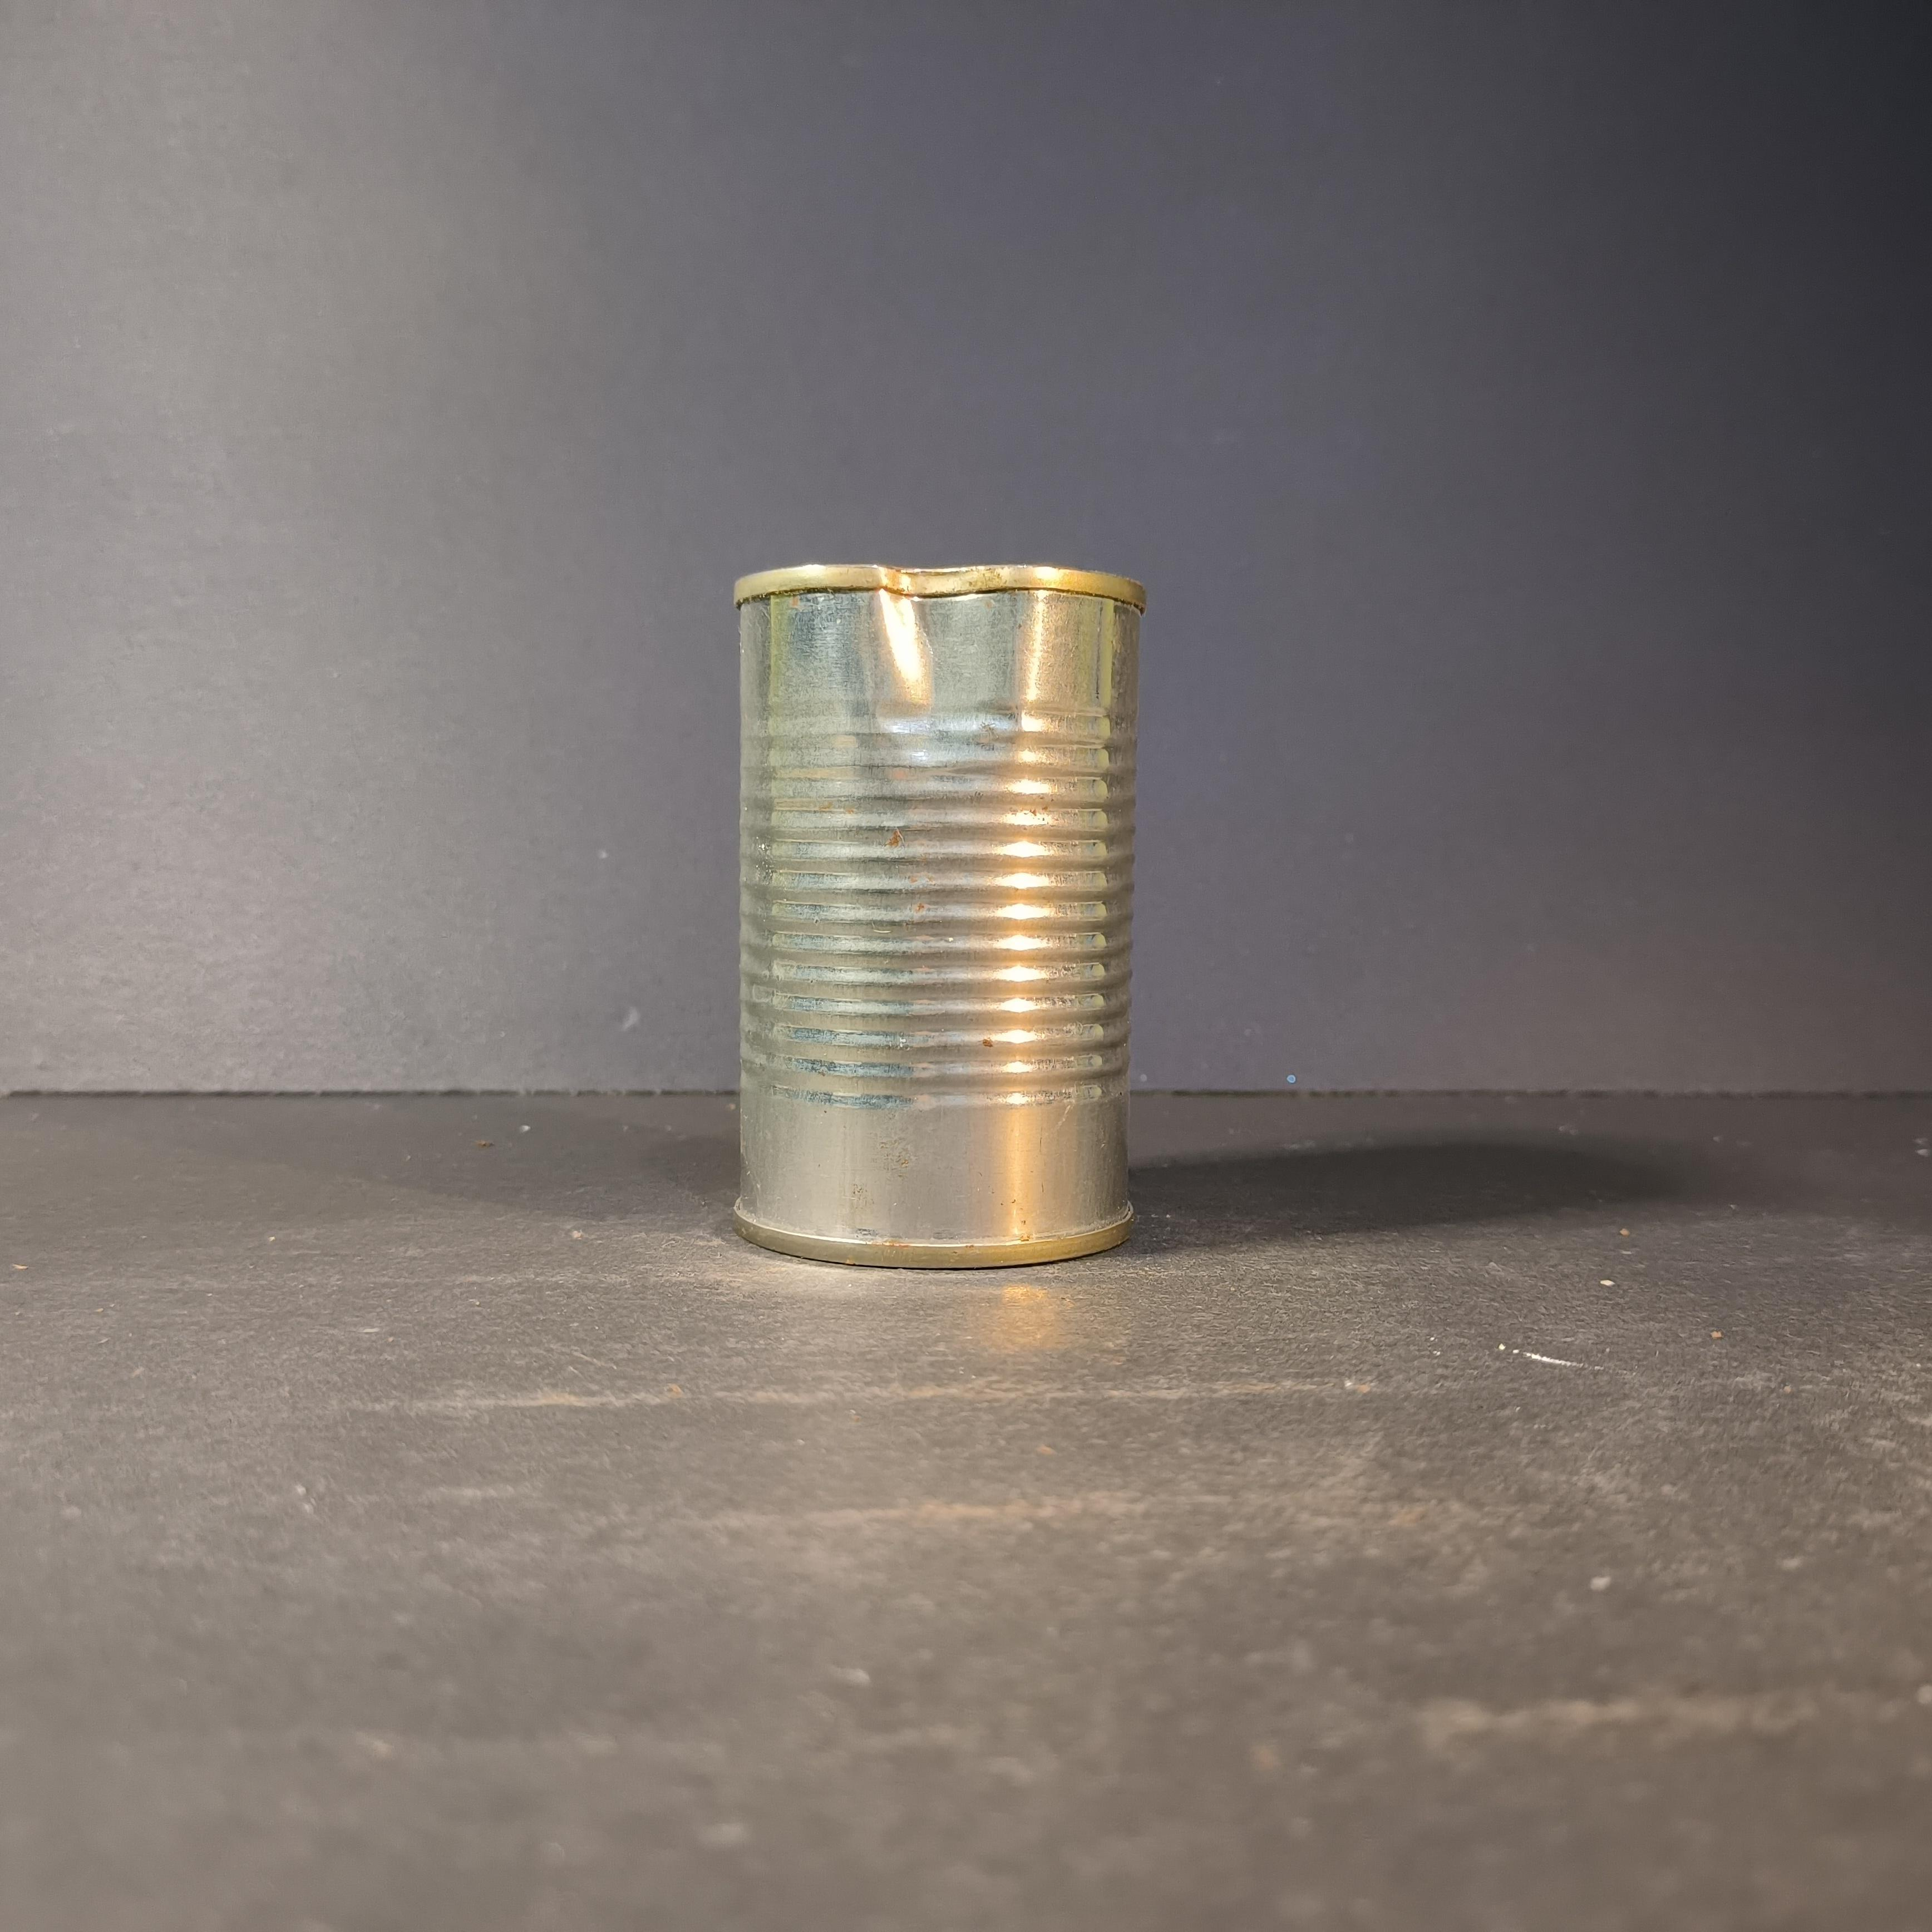Dented: (713, 540, 1171, 1288)
